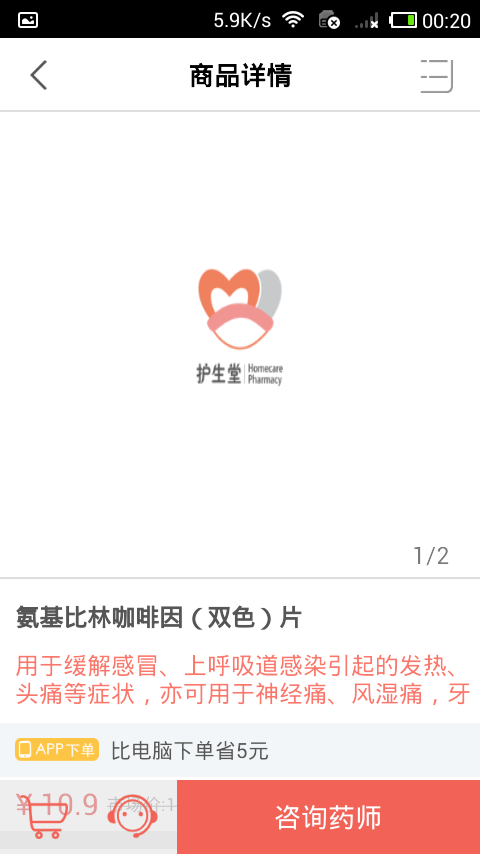button: (177, 783, 480, 851)
imgbutton: (414, 52, 457, 101), (18, 56, 62, 98)
imgview: (165, 250, 307, 450)
nav: (6, 785, 170, 850)
textview: (6, 579, 472, 722), (10, 44, 479, 107)
